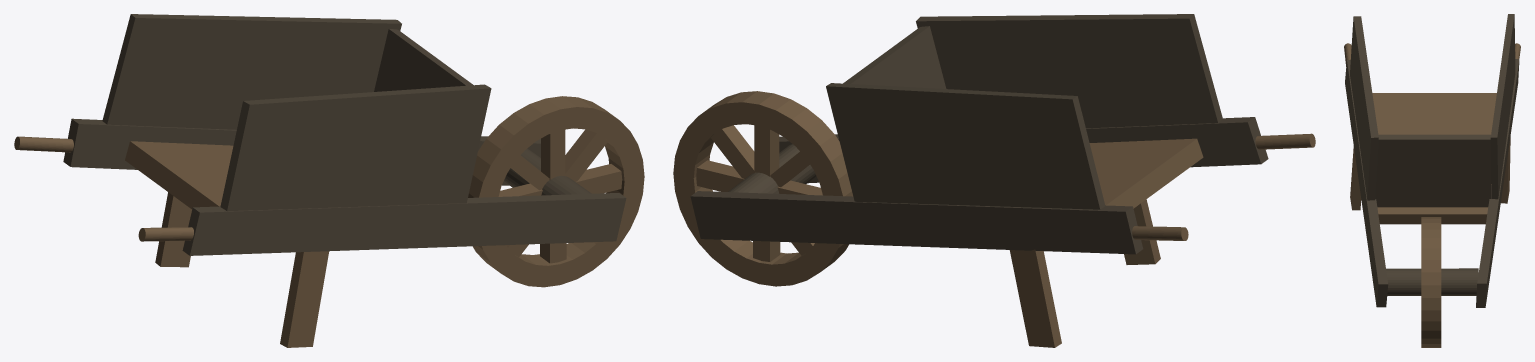
The model's file is wheelbarrow.fbx.
3 renders of one model, left to right at view 1: azimuth 30°, elevation 25°; view 2: azimuth 150°, elevation 25°; view 3: azimuth 270°, elevation 25°, orthographic. The views are drawn at different scales.
Visible parts, largest first — view 1: Cube.003; view 2: Cube.003; view 3: Cube.003.
Part boxes in pixels (x1,y1,x2,y2): Cube.003: [14, 14, 644, 347]; Cube.003: [673, 14, 1315, 347]; Cube.003: [1344, 14, 1520, 347].
Bounding box in the file's own units: 664 × 351 × 270.
